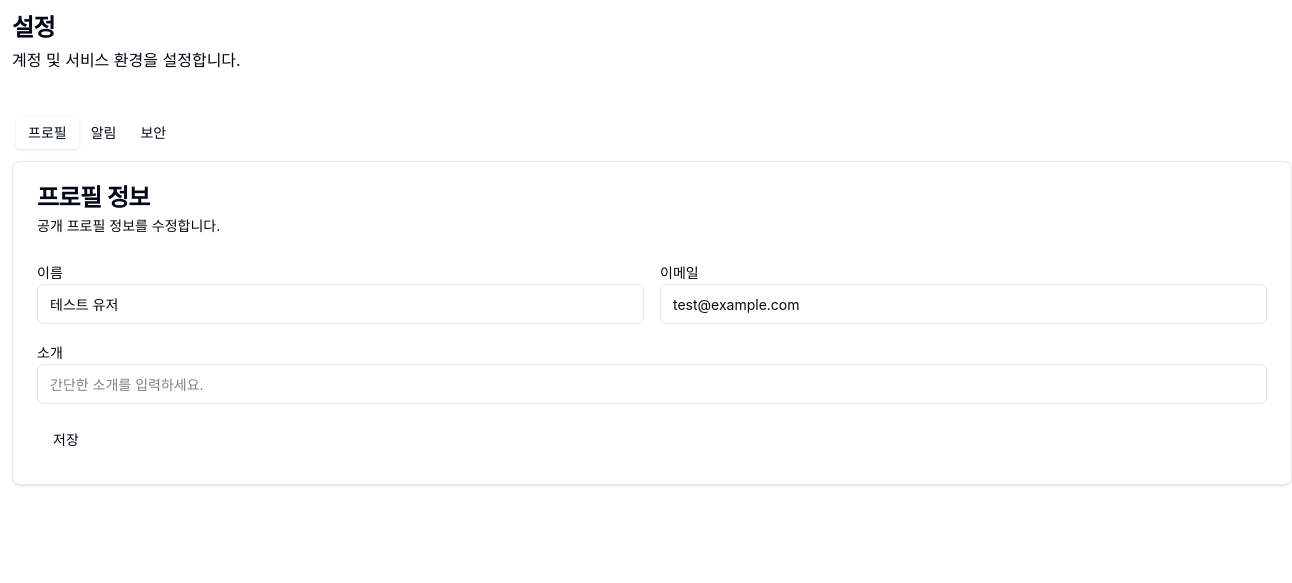
Test case: SettingsPage › security tab › switches to security tab when clicked
What coordinates should you click on to do the following:
click the tab "보안"
I would click on:
 (153, 133)
Its box is [128,117,178,149].
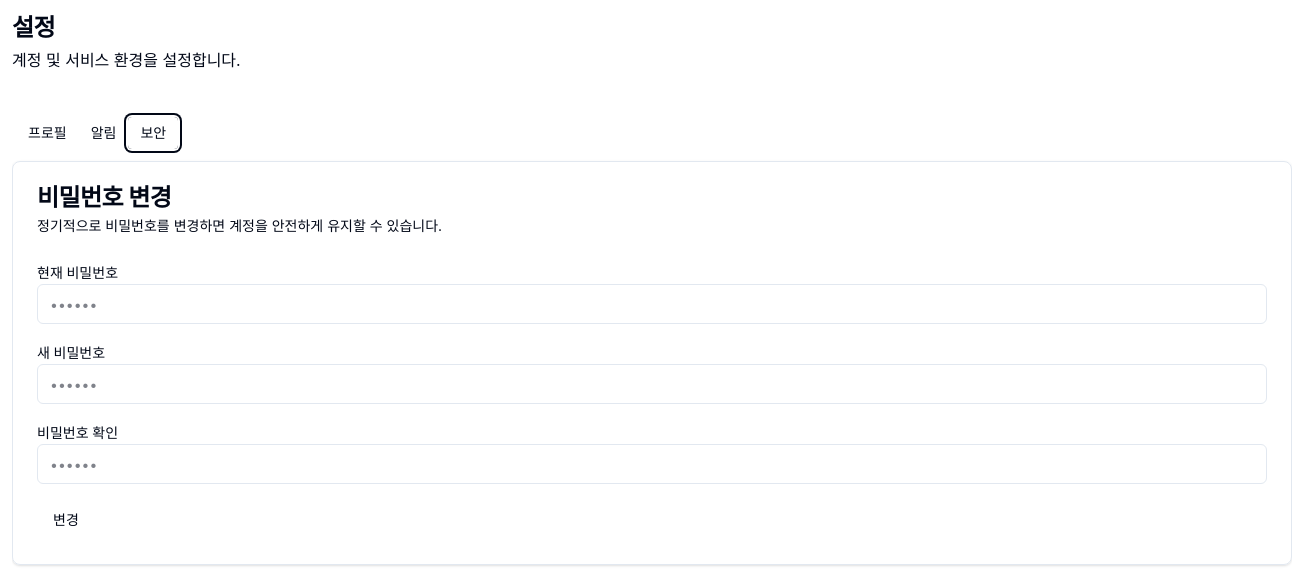
Expected: the text "비밀번호 변경" is shown, [37,183,171,212]
